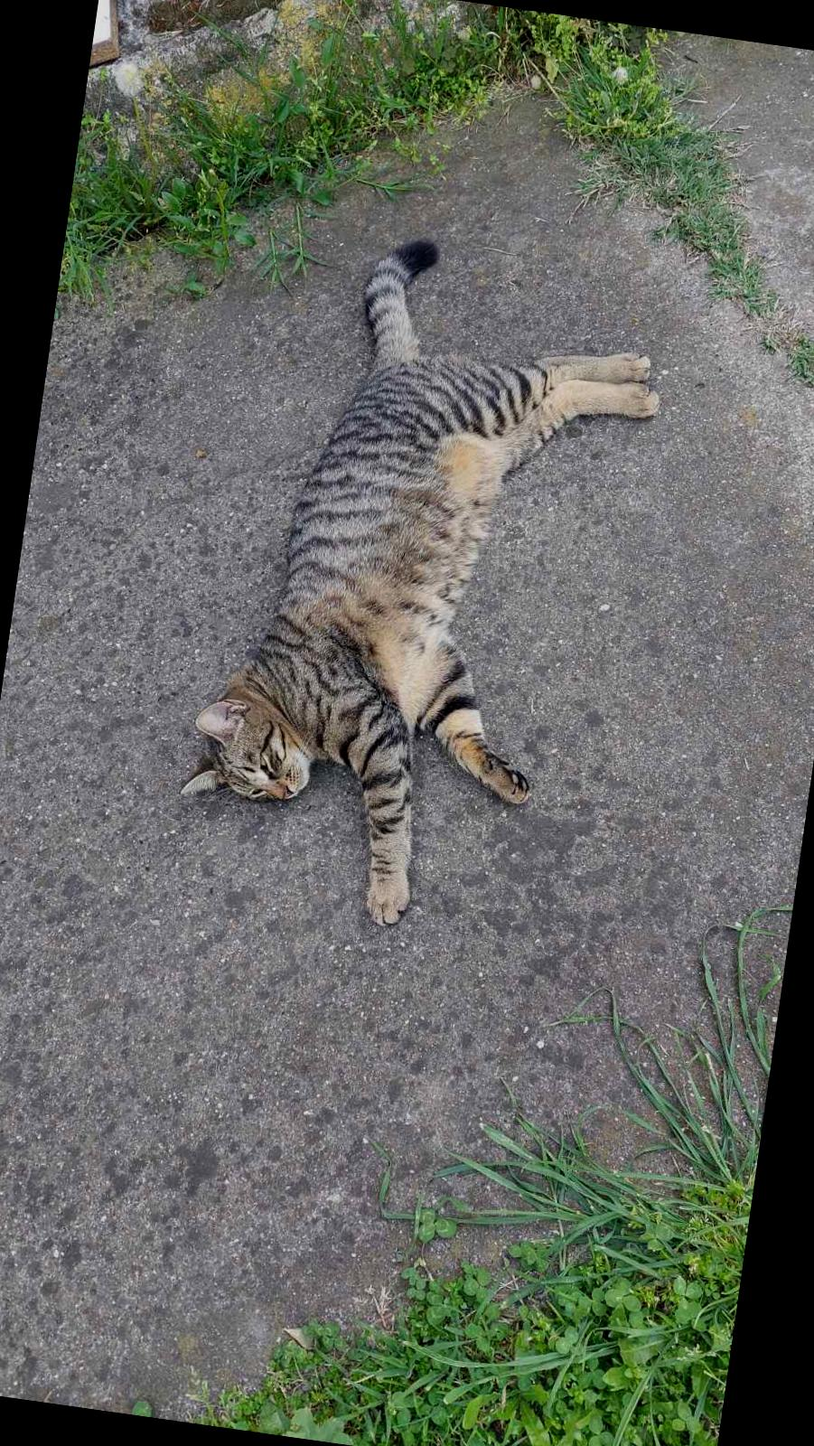macka: (161, 217, 677, 955)
